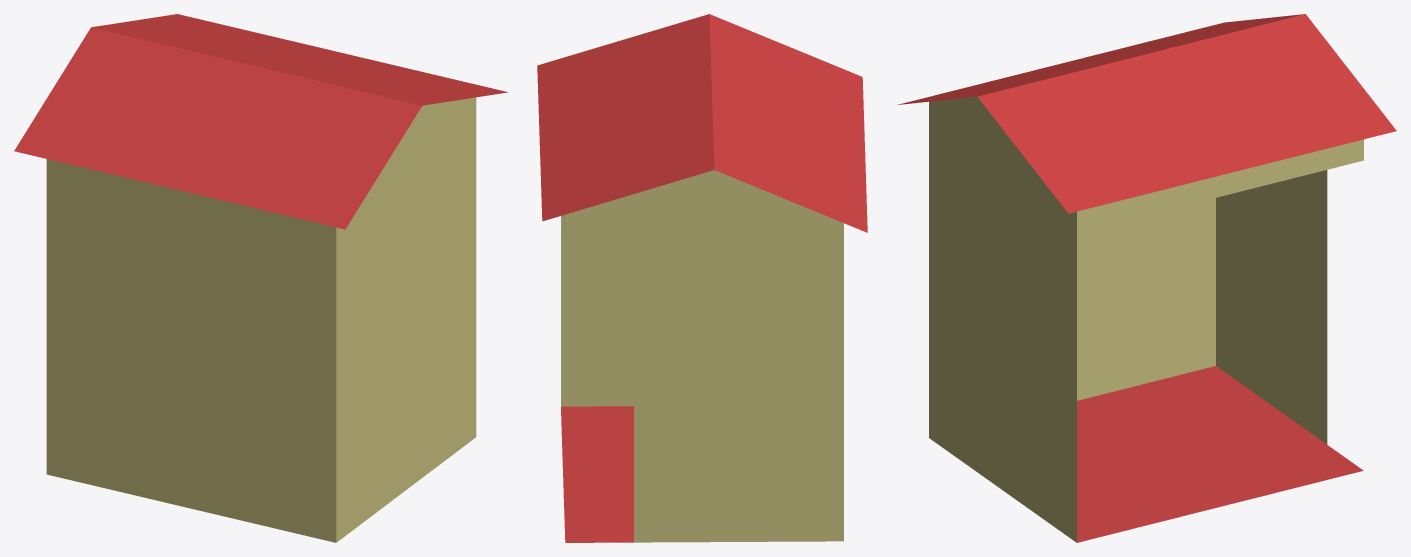
3 renders of one model, left to right at view 1: azimuth 30°, elevation 25°; view 2: azimuth 150°, elevation 25°; view 3: azimuth 270°, elevation 25°, orthographic. The views are drawn at different scales.
Size of the model in its own units: 10.05 by 10.37 by 9.04.
